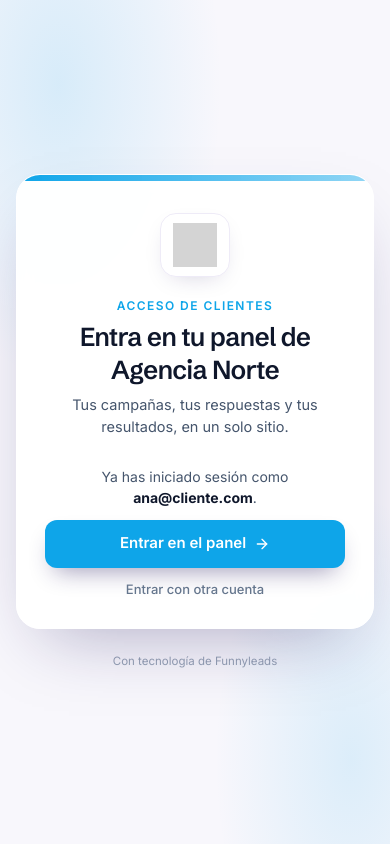
Test: entrada exclusiva de clientes (/acceso/<slug>) › con la sesión ya abierta de un cliente de la agencia, ofrece entrar directamente
Expected: the text "Ya has iniciado sesión como ana@cliente.com." is shown, [102,468,288,506]
What coordinates should you click on to do the following:
click the button "Entrar en el panel"
I would click on:
 (195, 544)
Its box is [45,520,345,568].
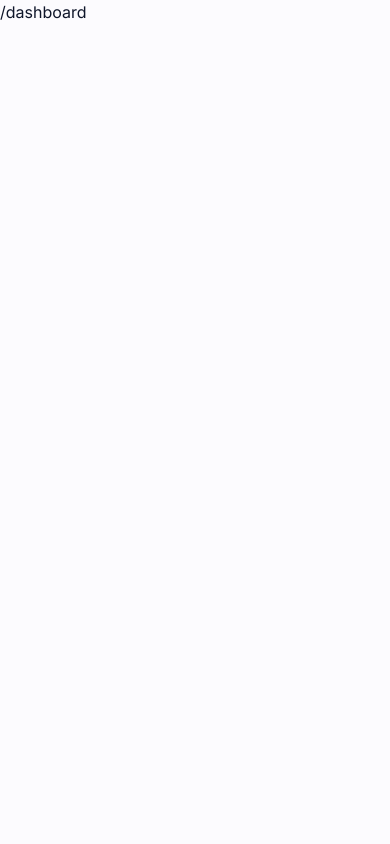
Now the text with test id "donde" reads "/dashboard", box [0,2,86,22]
